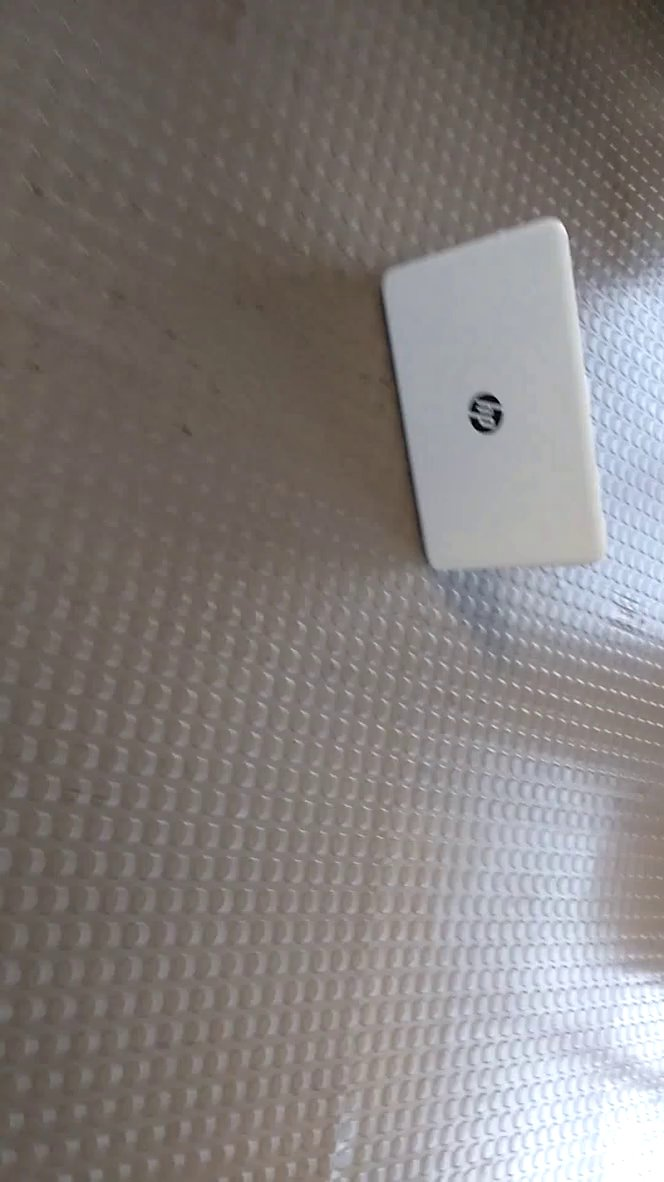laptop: (370, 206, 618, 584)
